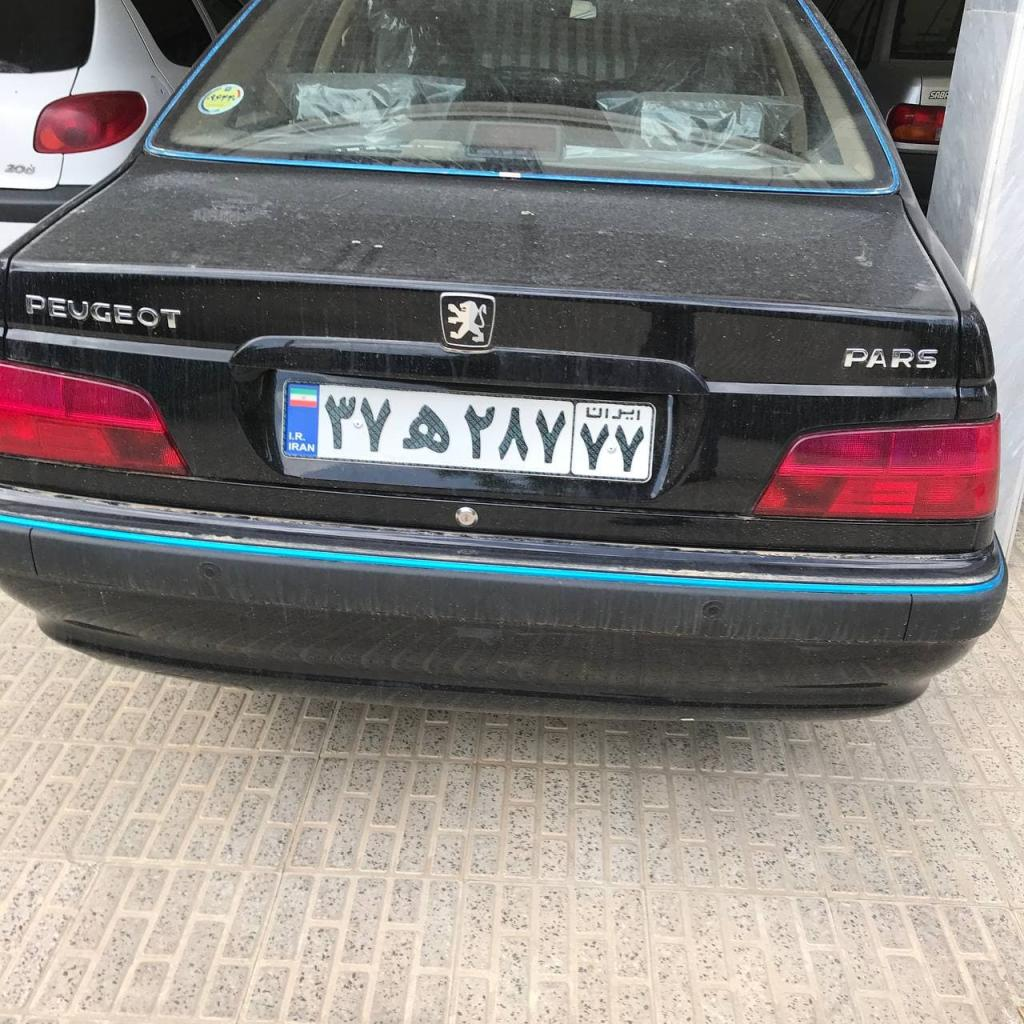Plates: (283, 381, 654, 480)
